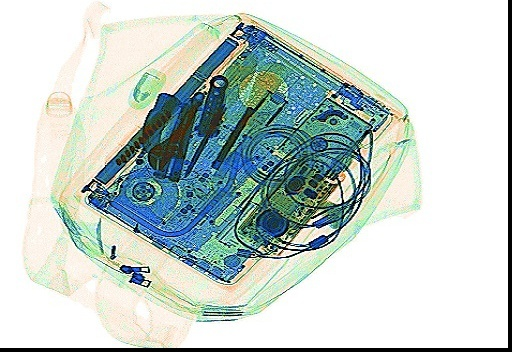knife: (150, 94, 199, 184), (139, 88, 182, 159), (191, 71, 228, 138)
